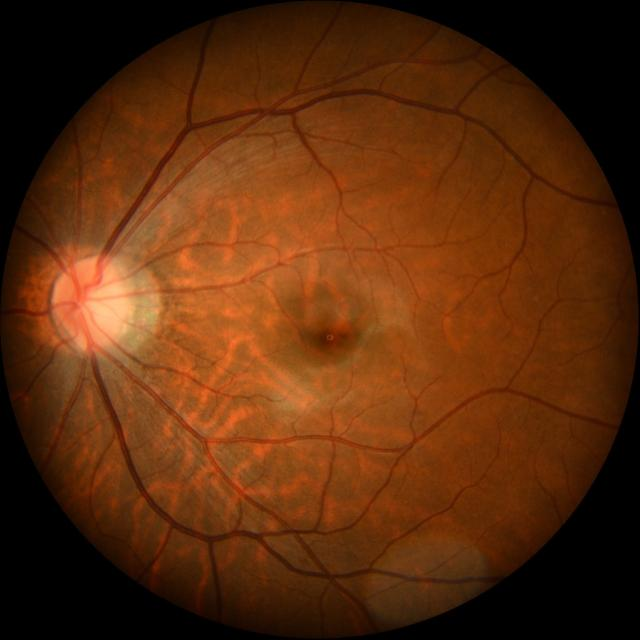OC: (79, 289, 112, 318)
OD: (54, 255, 132, 348)
